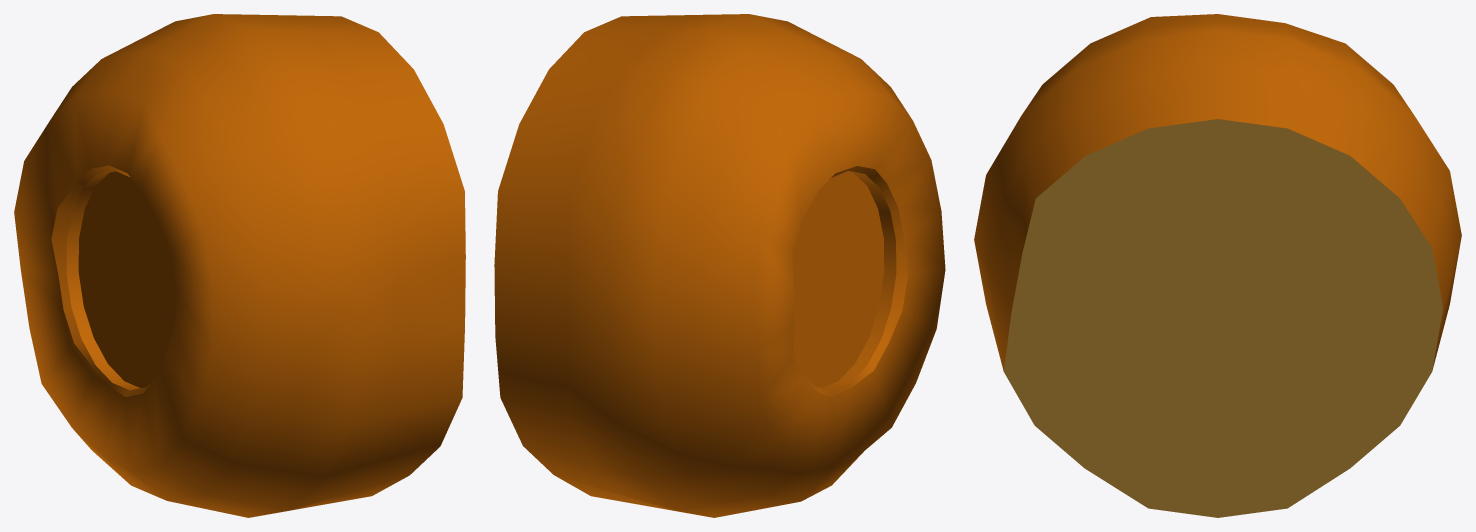
The model's file is mesh_Carrot_Stage10.fbx.
3 views of the same model, side by side, from view 1: azimuth 30°, elevation 25°; view 2: azimuth 150°, elevation 25°; view 3: azimuth 270°, elevation 25° (orthographic). The views are drawn at different scales.
Visible parts, largest first — view 1: mesh_Carrot_Stage10; view 2: mesh_Carrot_Stage10; view 3: mesh_Carrot_Stage10.
Boxes of the visible parts, x1,y1,x2,y2 form: mesh_Carrot_Stage10: (14, 14, 465, 517); mesh_Carrot_Stage10: (494, 14, 945, 517); mesh_Carrot_Stage10: (974, 14, 1461, 517).
Bounding box in the file's own units: 0.0326 × 0.0519 × 0.051.
